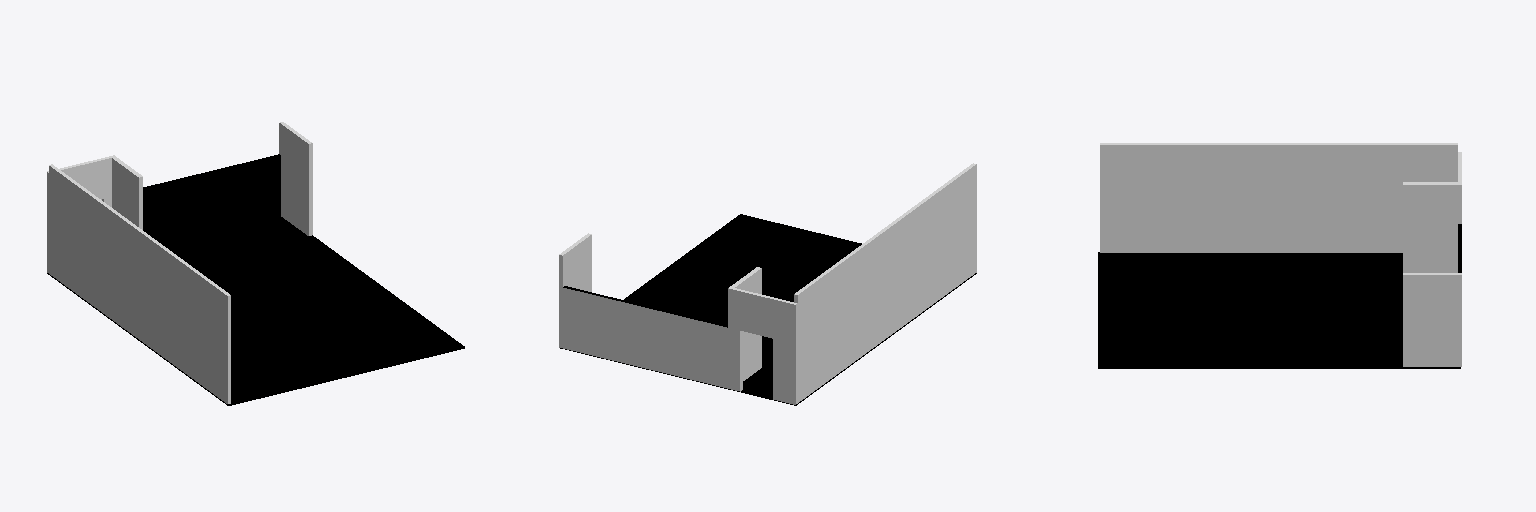
The model's file is redChair.obj.
3 views of the same model, side by side, from view 1: azimuth 30°, elevation 25°; view 2: azimuth 150°, elevation 25°; view 3: azimuth 270°, elevation 25° (orthographic).
Visible parts, largest first — view 1: Structure Wall_01 Walls, Floor Structure; view 2: Structure Wall_01 Walls, Floor Structure; view 3: Structure Wall_01 Walls, Floor Structure.
Boxes of the visible parts, box(x1,y1,x2,y2) form: Structure Wall_01 Walls: box(47, 122, 312, 403); Floor Structure: box(47, 217, 464, 405); Structure Wall_01 Walls: box(559, 163, 976, 404); Floor Structure: box(560, 214, 976, 405); Structure Wall_01 Walls: box(1100, 143, 1461, 366); Floor Structure: box(1098, 252, 1460, 368).
Size of the model in its own units: 991 by 438 by 1317.